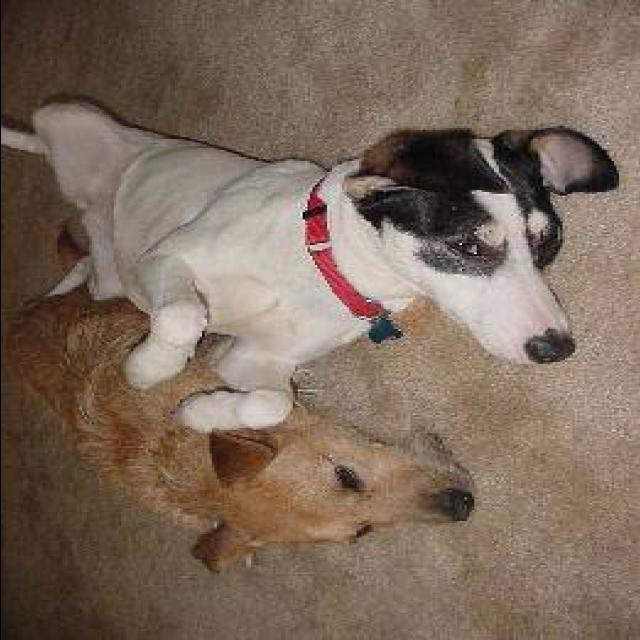dog: (2, 91, 614, 436)
